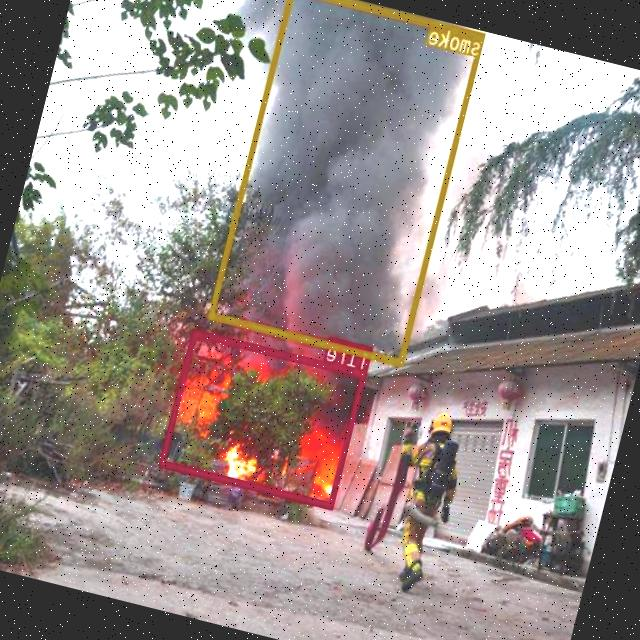fire: (159, 328, 368, 509)
smoke: (209, 0, 486, 365)
